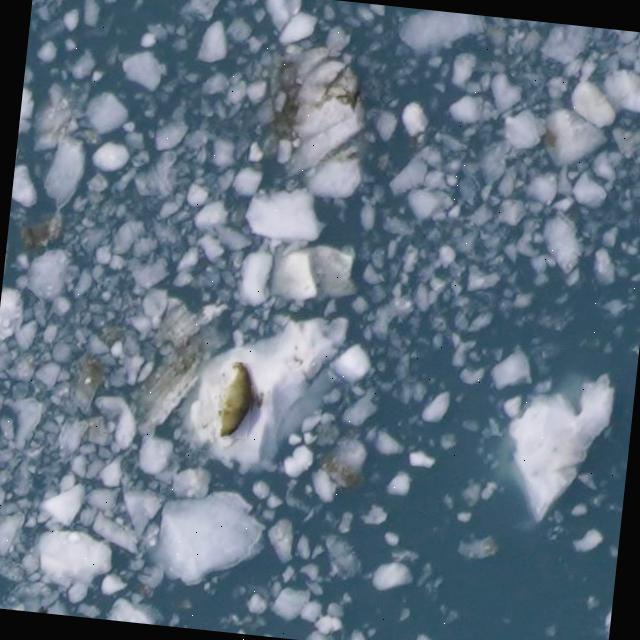seal: (213, 361, 258, 441)
